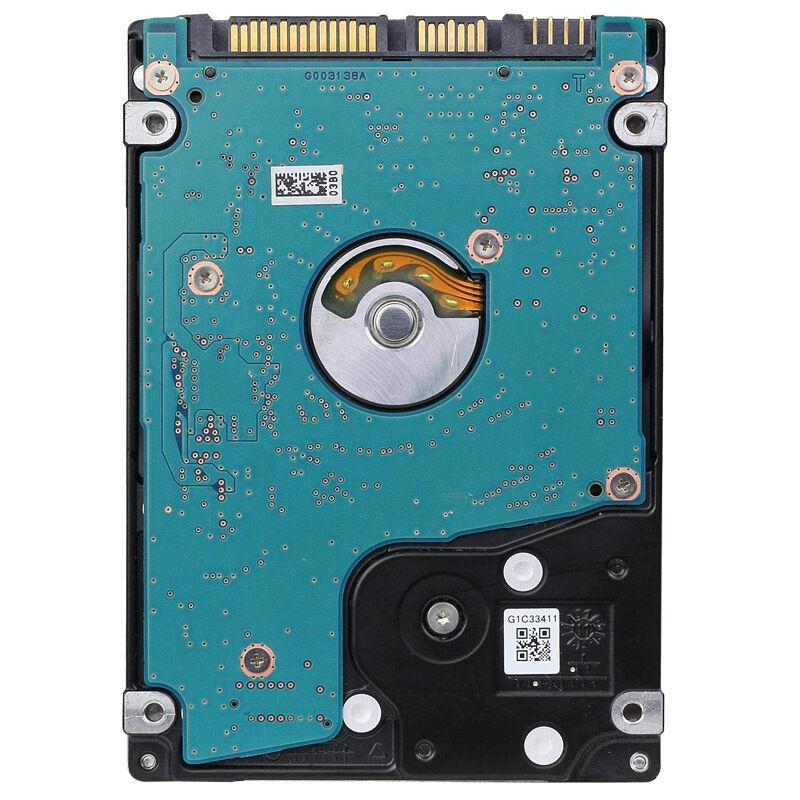internal HDD: (118, 13, 671, 789)
